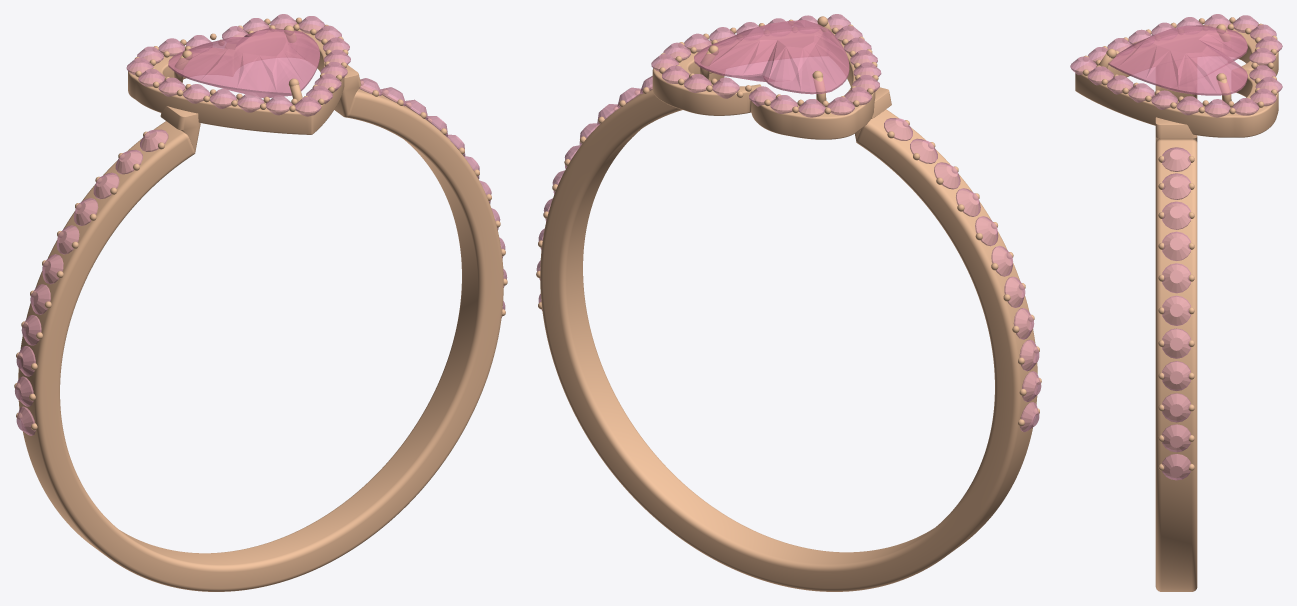
The model's file is J003-detail-v05.glb.
The picture shows the model from 3 angles, left to right: view 1: azimuth 30°, elevation 25°; view 2: azimuth 150°, elevation 25°; view 3: azimuth 270°, elevation 25°; orthographic projection. The views are drawn at different scales.
Parts seen in each view (by area): view 1: J003_Metal, J003_AccentStones, J003_MainStone; view 2: J003_Metal, J003_AccentStones, J003_MainStone; view 3: J003_Metal, J003_AccentStones, J003_MainStone.
Part boxes in pixels (x1,y1,x2,y2): J003_Metal: (14,17,507,591); J003_AccentStones: (15,14,507,435); J003_MainStone: (168,28,319,98); J003_Metal: (536,16,1041,591); J003_AccentStones: (536,14,1041,432); J003_MainStone: (694,20,849,94); J003_Metal: (1075,17,1278,591); J003_AccentStones: (1070,14,1282,480); J003_MainStone: (1108,25,1247,95).
Size of the model in its own units: 0.0185 by 0.0195 by 0.00711.
